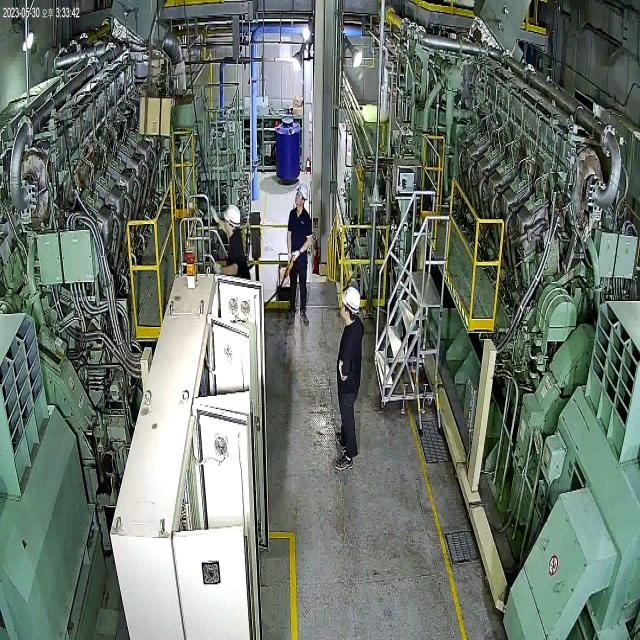Water Tank: (272, 112, 304, 188)
worker: (334, 274, 366, 483), (284, 174, 314, 329), (209, 196, 254, 280)
